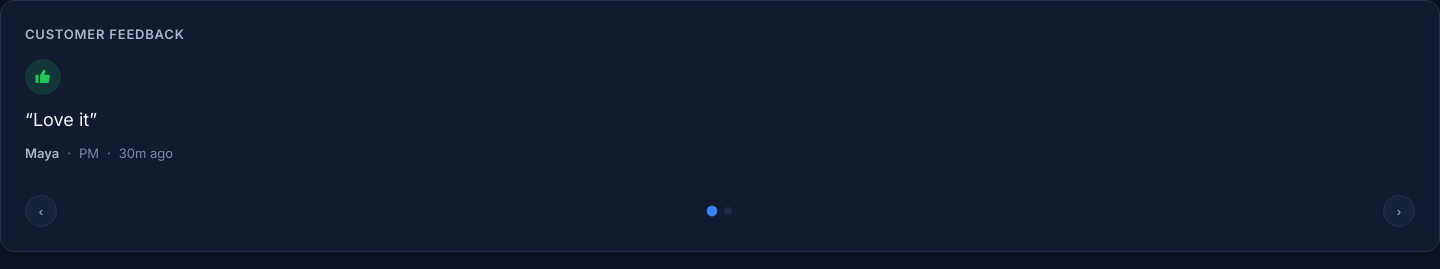
FeedbackCarousel › advances to the next positive slide via the Next control
The image size is (1440, 269).
Click the button named "Next feedback": click(1399, 211) x1=1383 y1=195 x2=1415 y2=227
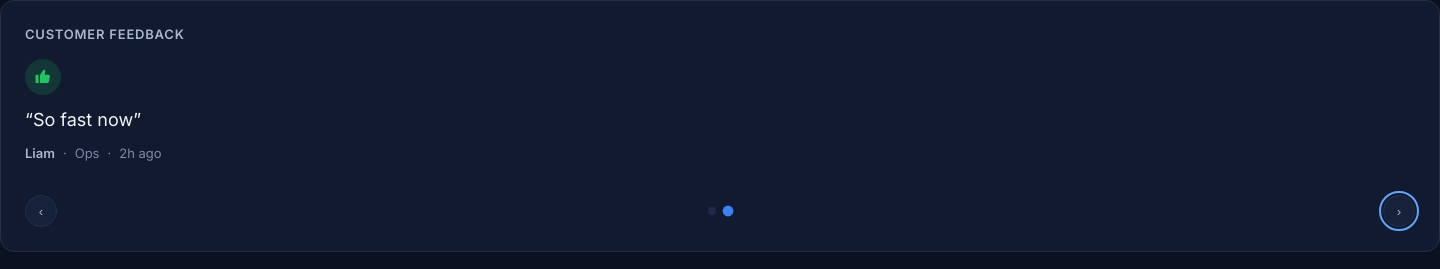
Result: the text "“So fast now”" is shown at x1=25 y1=109 x2=141 y2=130
